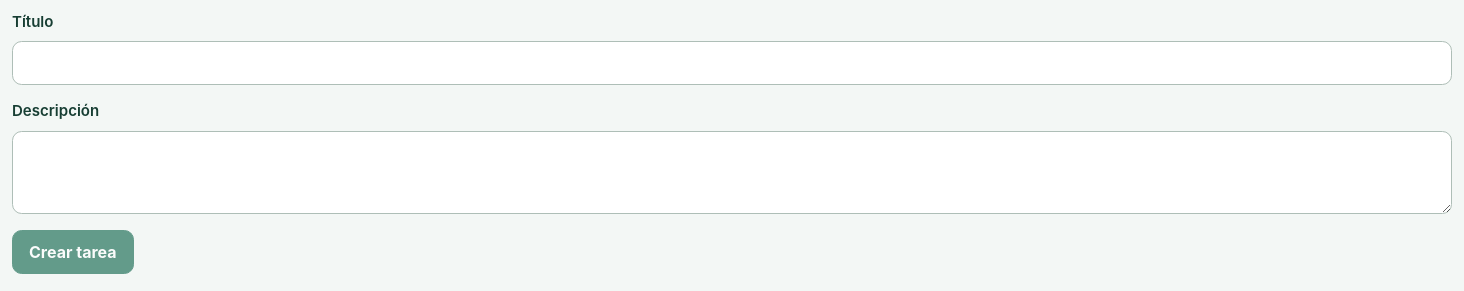
TaskForm › envía los datos y limpia el formulario después de guardar
In the field labelled "Título": (732, 63) [12,41,1452,85], type "Estudiar React"
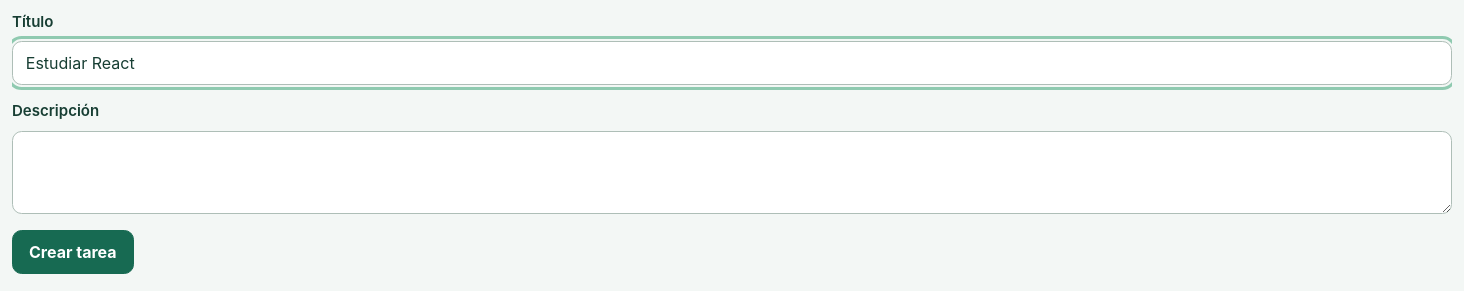
In the text box labelled "Descripción": (732, 172) [12,131,1452,214], type "Repasar hooks"
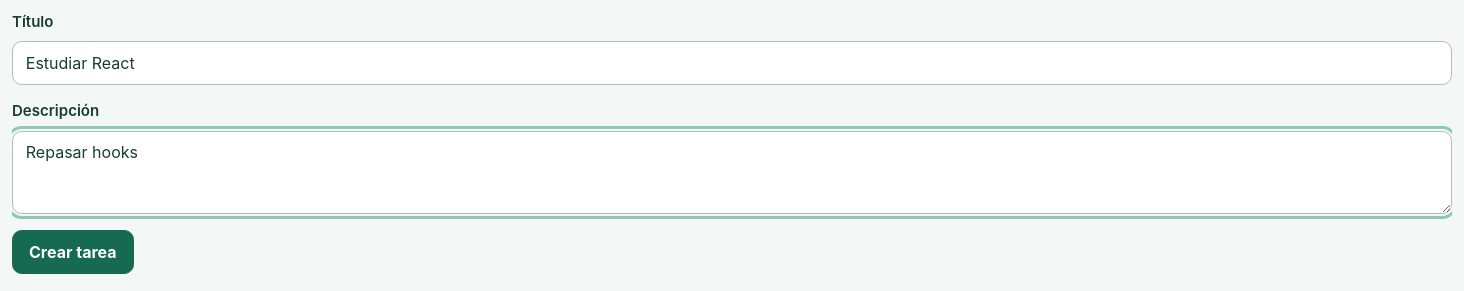
Click the button "Crear tarea": (73, 252) [12,230,134,274]
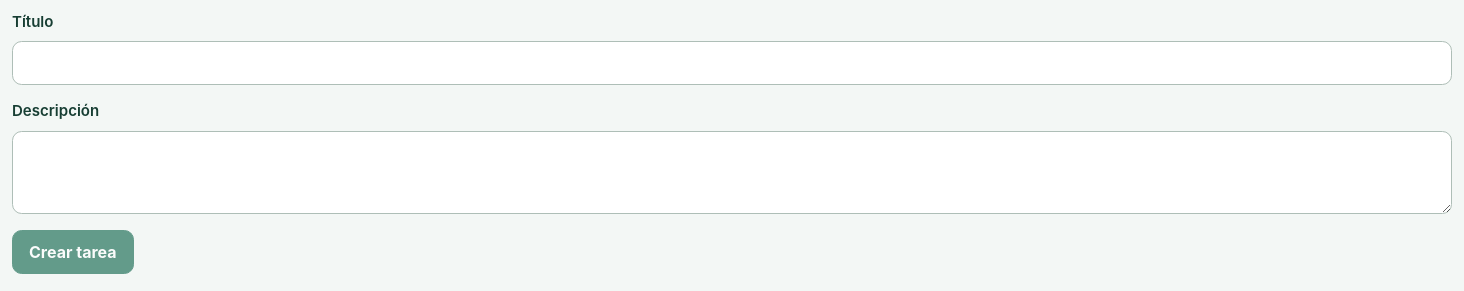
Expected: the field labelled "Título" is empty, [12,41,1452,85]
Expected: the text box labelled "Descripción" is empty, [12,131,1452,214]
